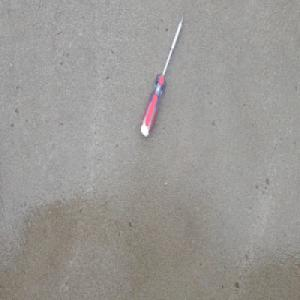Screwdriver: (139, 14, 185, 138)
